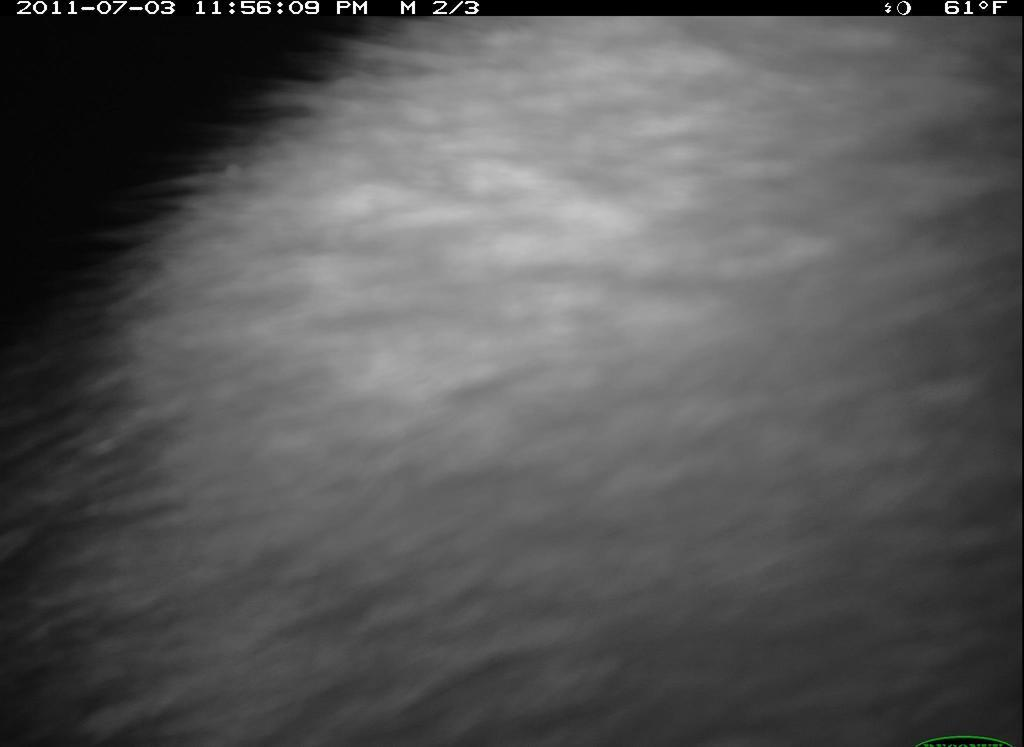raccoon: (103, 21, 1023, 747)
